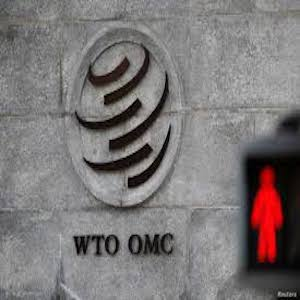red: (245, 161, 288, 273)
